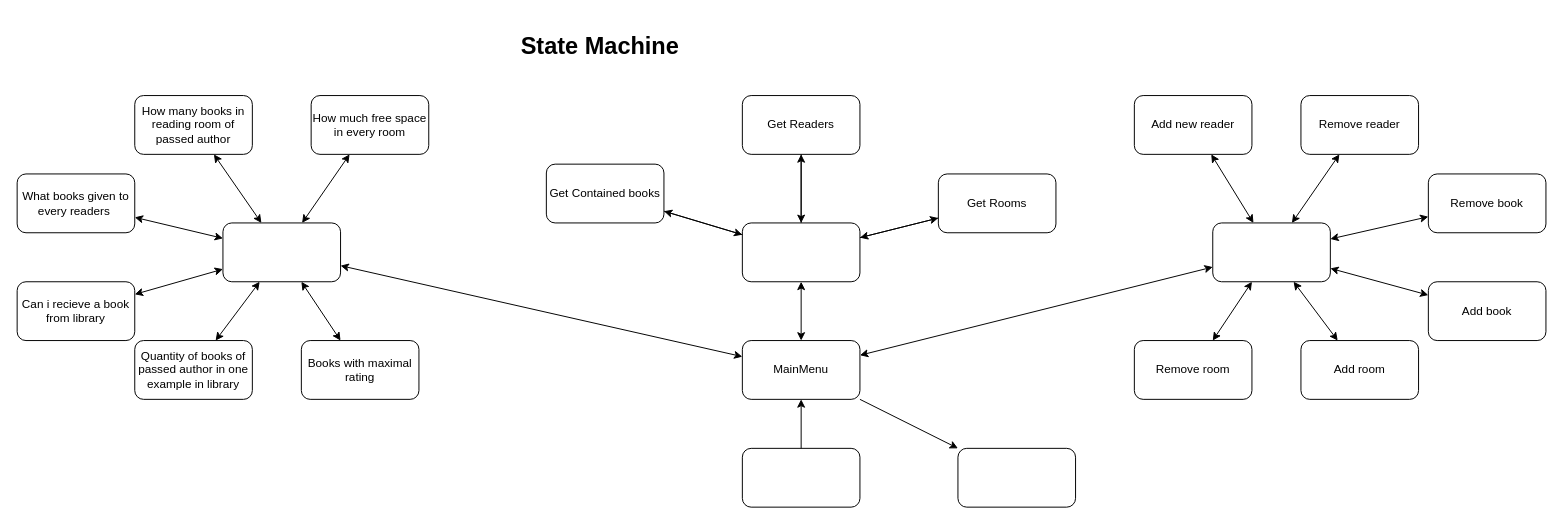
The diagram is 1563 pixels wide and 524 high, and some of its shapes have lost their labels. The shapes that lost their labels are listed below. From the top down, each one's box as (x1, y1, x2, y2) in pixels, then its label:
(222, 222, 341, 282): AdvanceInfo
(741, 222, 860, 282): GenericInfo
(1212, 222, 1330, 282): Actions
(741, 447, 860, 507): Greetings
(957, 447, 1076, 507): Exit
